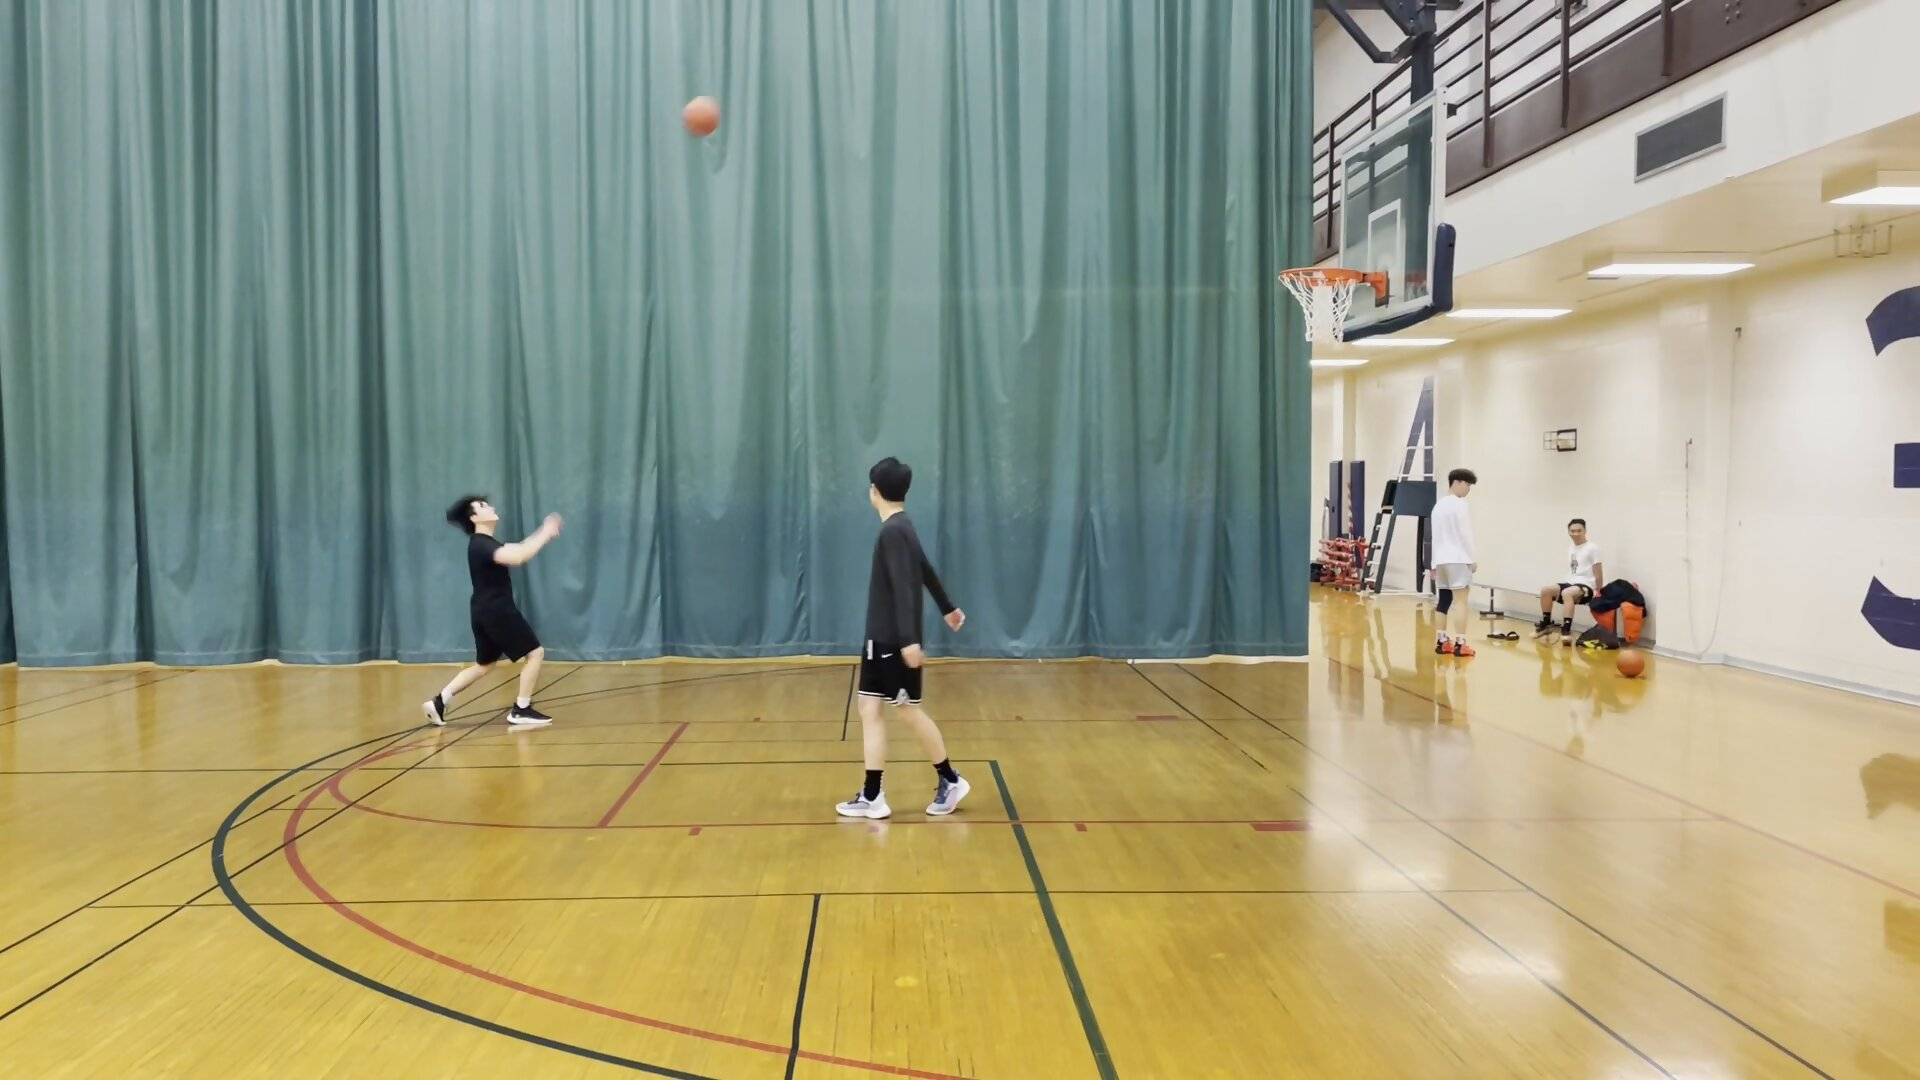ball: (678, 95, 722, 143), (1616, 646, 1645, 677)
net: (1298, 316, 1355, 350)
player: (825, 453, 982, 816), (426, 491, 567, 726), (1425, 467, 1486, 660), (1548, 512, 1608, 650)
rim: (1272, 262, 1369, 291)
